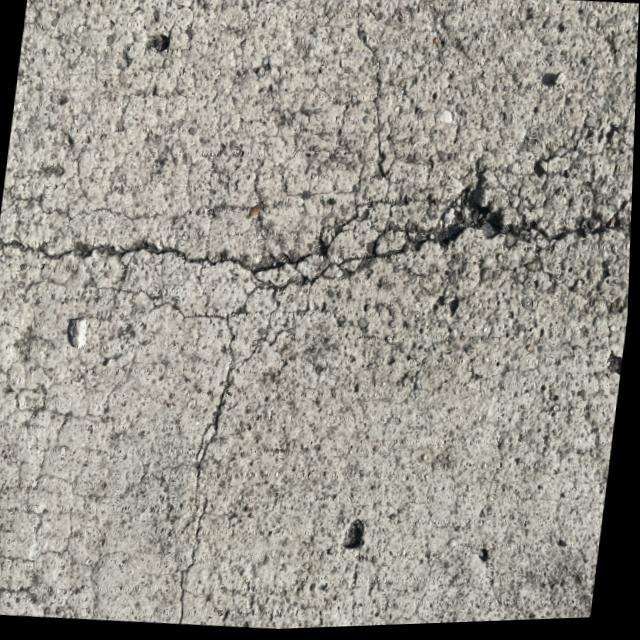Crack: (0, 138, 635, 340)
